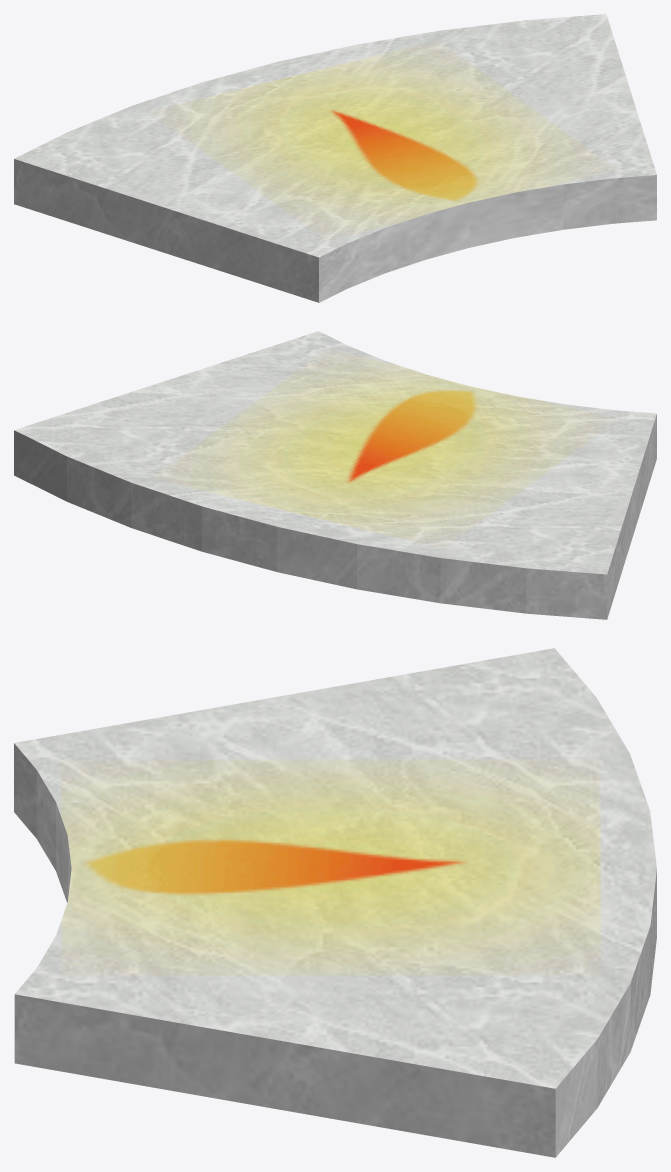
File: fire-tile.obj
The picture shows the model from 3 angles, top to bottom: view 1: azimuth 30°, elevation 25°; view 2: azimuth 150°, elevation 25°; view 3: azimuth 270°, elevation 25°; orthographic projection. The views are drawn at different scales.
Visible parts, largest first — view 1: Cylinder.012_Mesh.005, Cylinder.012_Mesh.006; view 2: Cylinder.012_Mesh.005, Cylinder.012_Mesh.006; view 3: Cylinder.012_Mesh.005, Cylinder.012_Mesh.006.
Boxes of the visible parts, <box> form: Cylinder.012_Mesh.005: <box>14,14,656,257</box>; Cylinder.012_Mesh.006: <box>14,159,656,302</box>; Cylinder.012_Mesh.005: <box>14,331,656,574</box>; Cylinder.012_Mesh.006: <box>14,414,656,619</box>; Cylinder.012_Mesh.005: <box>14,648,656,1088</box>; Cylinder.012_Mesh.006: <box>14,743,656,1157</box>.
Bounding box in the file's own units: 3.79 × 0.277 × 2.34.
